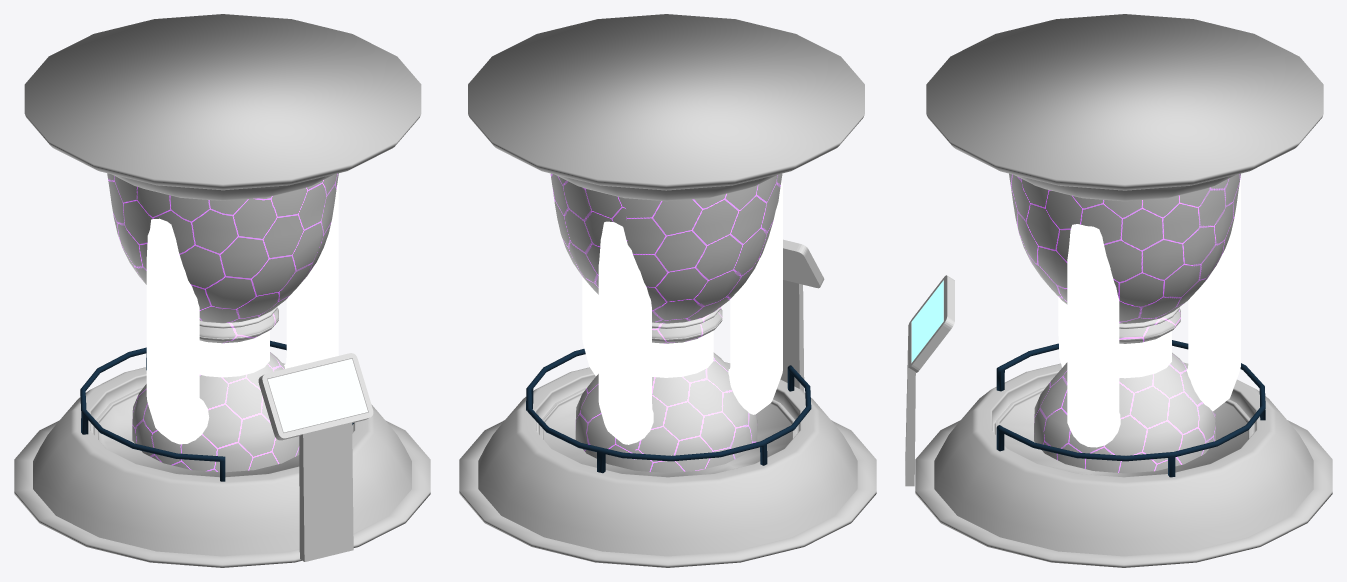
Rendered from BioHazardDisposalWithTex.fbx.
The picture shows the model from 3 angles, left to right: view 1: azimuth 30°, elevation 25°; view 2: azimuth 150°, elevation 25°; view 3: azimuth 270°, elevation 25°; orthographic projection.
Parts seen in each view (by area): view 1: NuclearDis_top_support, NuclearDis_core2, NuclearDis_base, NuclearDis_core_pipes, NuclearDis_pda, NuclearDis_base_floor, NuclearDis_base_rail, NuclearDis_top; view 2: NuclearDis_top_support, NuclearDis_base, NuclearDis_core2, NuclearDis_core_pipes, NuclearDis_base_floor, NuclearDis_pda, NuclearDis_base_rail, NuclearDis_top; view 3: NuclearDis_top_support, NuclearDis_base, NuclearDis_core2, NuclearDis_core_pipes, NuclearDis_base_floor, NuclearDis_pda, NuclearDis_base_rail, NuclearDis_top.
Part boxes in pixels (box(x1,y1,x2,y2)): NuclearDis_top_support: box(24, 14, 421, 190); NuclearDis_core2: box(107, 173, 338, 472); NuclearDis_base: box(33, 363, 411, 556); NuclearDis_core_pipes: box(146, 176, 338, 444); NuclearDis_pda: box(258, 353, 373, 561); NuclearDis_base_floor: box(14, 420, 430, 567); NuclearDis_base_rail: box(80, 340, 353, 481); NuclearDis_top: box(112, 174, 333, 200); NuclearDis_top_support: box(468, 14, 864, 190); NuclearDis_base: box(478, 362, 857, 556); NuclearDis_core2: box(550, 173, 782, 472); NuclearDis_core_pipes: box(582, 181, 782, 444); NuclearDis_base_floor: box(459, 420, 876, 567); NuclearDis_pda: box(780, 239, 824, 391); NuclearDis_base_rail: box(526, 349, 811, 473); NuclearDis_top: box(555, 174, 777, 201); NuclearDis_top_support: box(926, 14, 1323, 190); NuclearDis_base: box(934, 362, 1313, 556); NuclearDis_core2: box(1009, 173, 1240, 473); NuclearDis_core_pipes: box(1058, 179, 1240, 447); NuclearDis_base_floor: box(915, 420, 1332, 567); NuclearDis_pda: box(905, 275, 954, 486); NuclearDis_base_rail: box(996, 340, 1265, 477); NuclearDis_top: box(1014, 175, 1235, 201).
Bounding box in the file's own units: 224 × 221 × 226.
